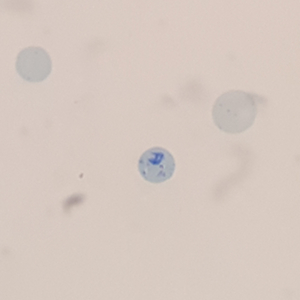aggregate reticulocyte: (136, 146, 177, 185)
punctate reticulocyte: (210, 88, 258, 136), (14, 45, 54, 84)
